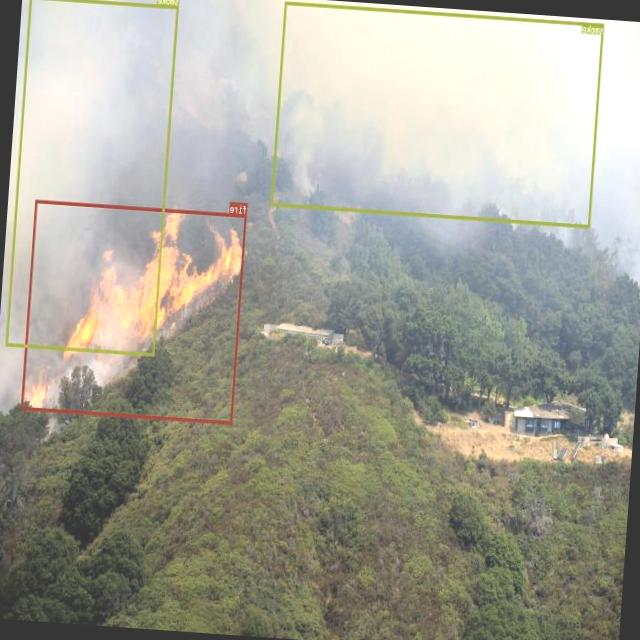fire: (20, 199, 246, 423)
smoke: (270, 0, 604, 227), (5, 0, 178, 355)
